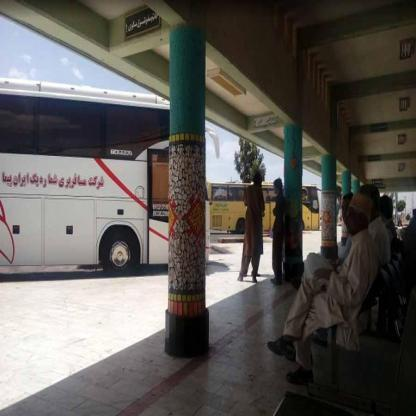Bus: (0, 76, 214, 268), (204, 172, 327, 237)
